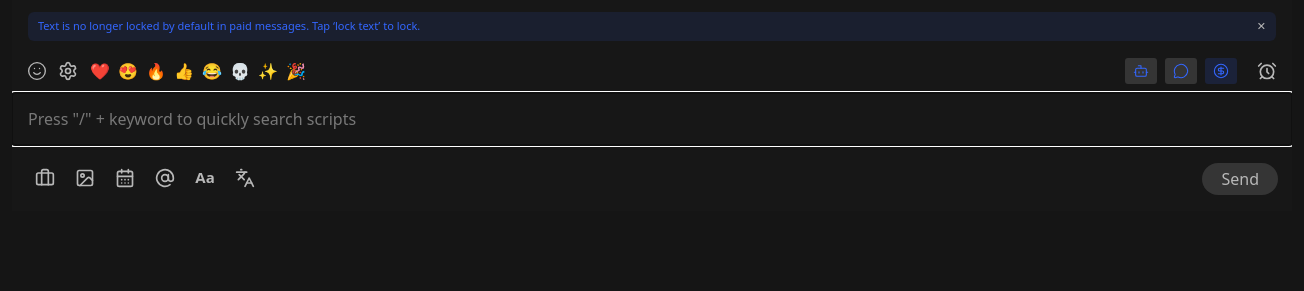
Scenario: Composer toolbar: "/" + keyword searches Scripts › "/" alone lists every Script
This screenshot has width=1304, height=291.
Type "/" into the text box with placeholder "Press \"/\" + keyword to quickly search scripts" at (652, 118), box [12,92,1292,144]
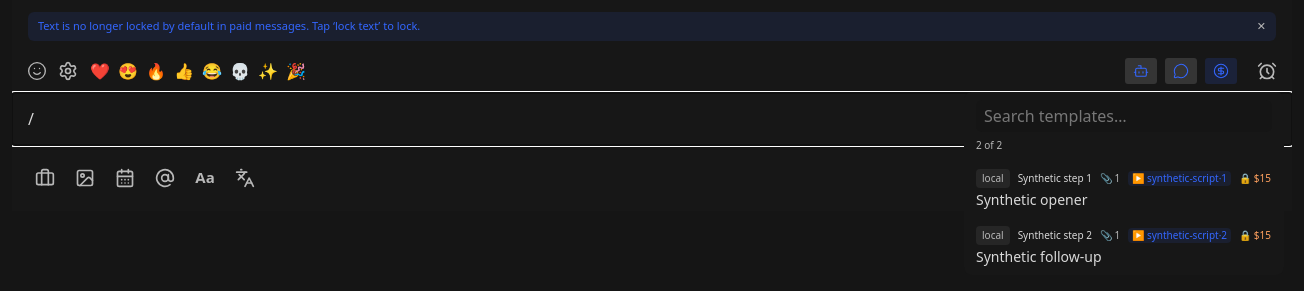
Now the button "Synthetic opener" is shown, box [964,160,1284,218]
Now the button "Synthetic follow-up" is shown, box [964,218,1284,274]
